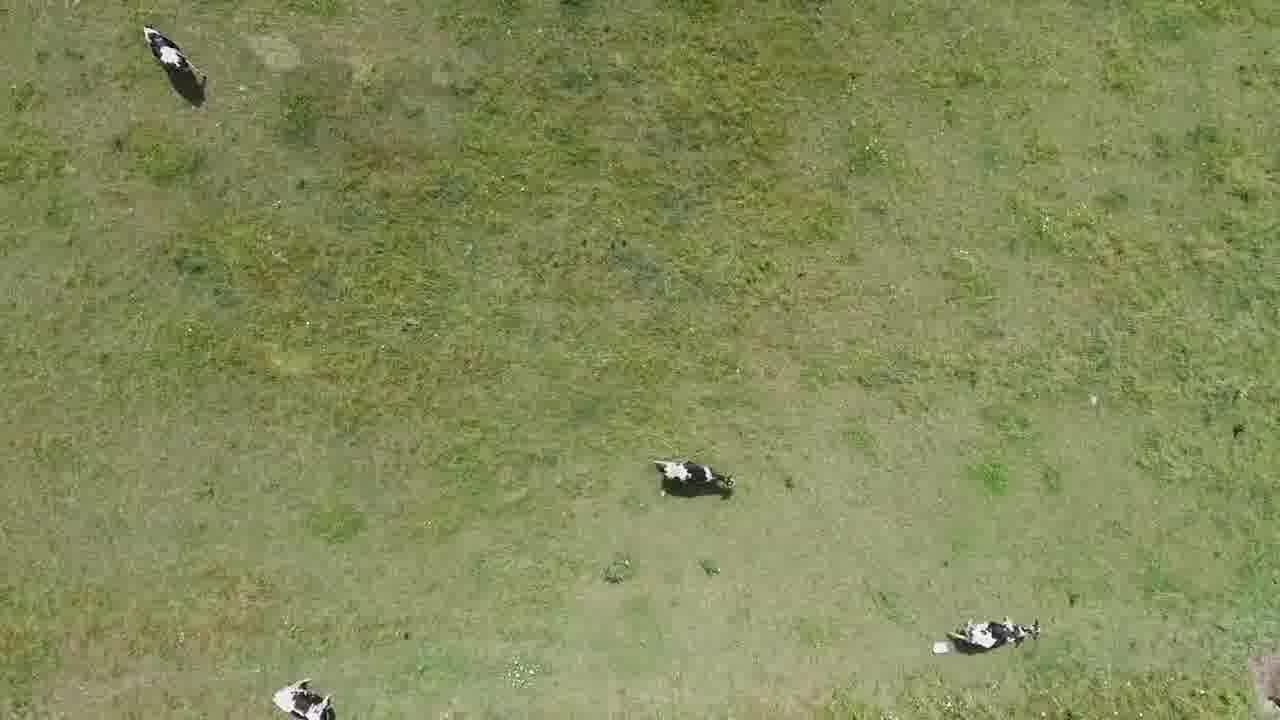cow: (937, 613, 1045, 660), (138, 19, 208, 91), (649, 453, 742, 502), (268, 674, 339, 720)
